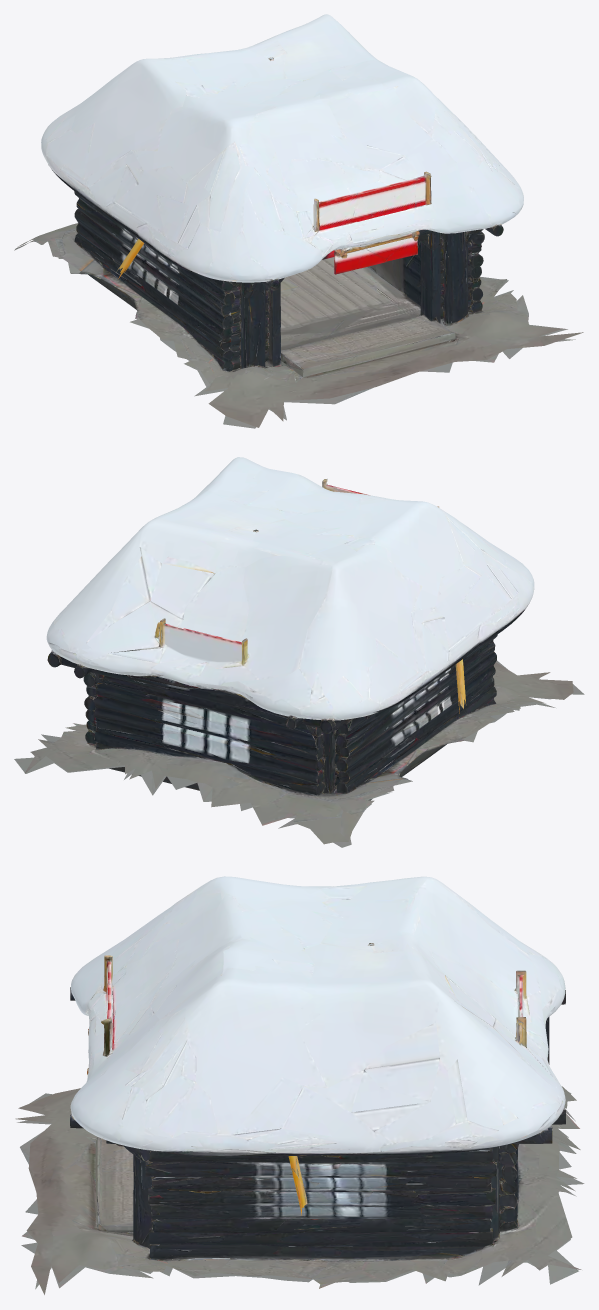
Rendered from start_house.glb.
3 renders of one model, top to bottom at view 1: azimuth 30°, elevation 25°; view 2: azimuth 150°, elevation 25°; view 3: azimuth 270°, elevation 25°, orthographic. The views are drawn at different scales.
Size of the model in its own units: 1.07 by 0.6535 by 1.24.
Materials: 1 (1 with a texture image).
